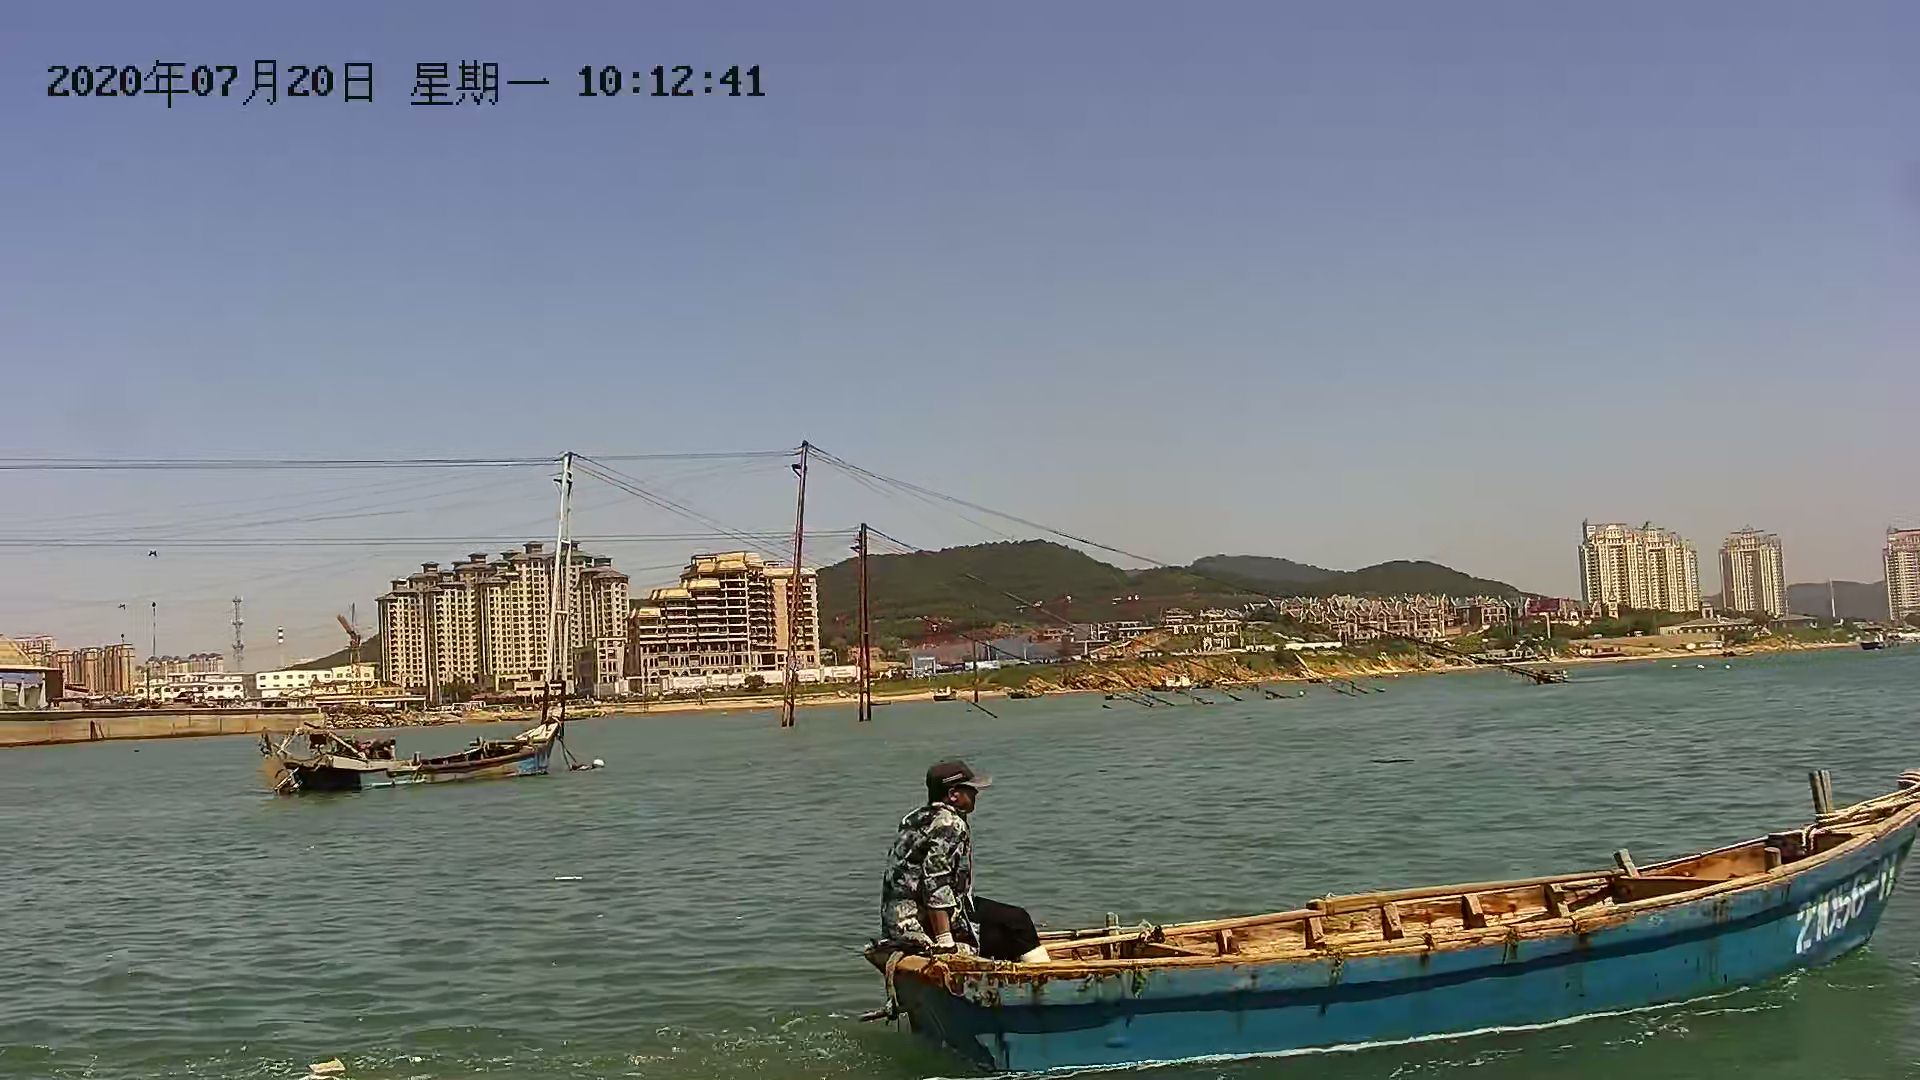boat: (890, 767, 1915, 1073), (274, 722, 569, 785)
mast: (538, 451, 574, 726), (850, 522, 883, 729), (785, 441, 805, 735)
person: (877, 765, 1054, 960)
